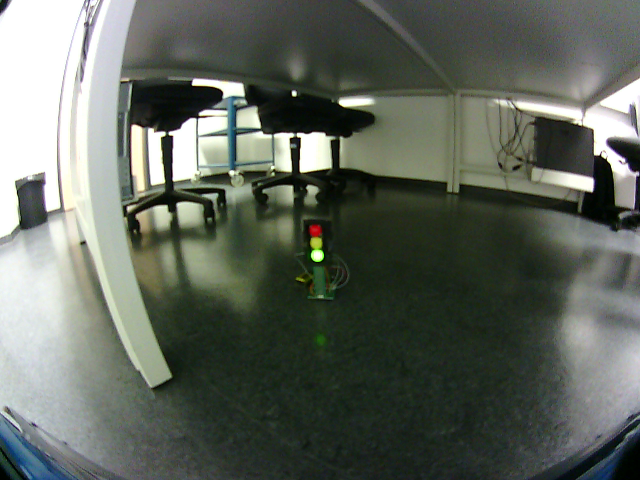green trafficlight: (304, 219, 326, 266)
